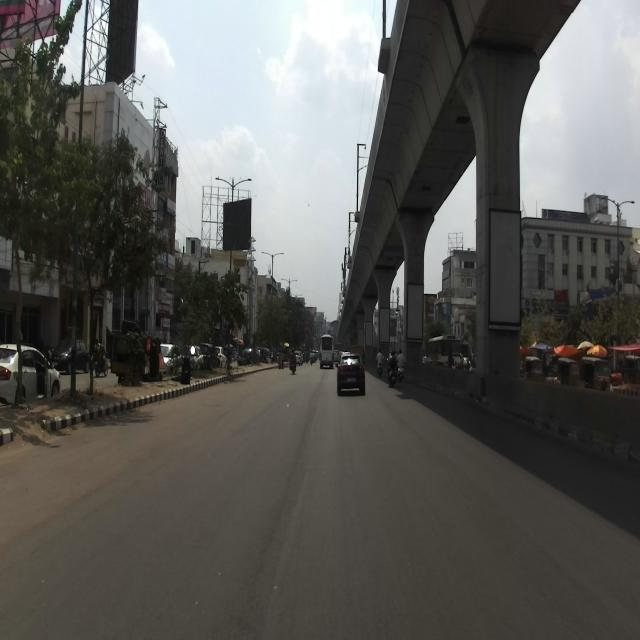car: (335, 351, 367, 396)
